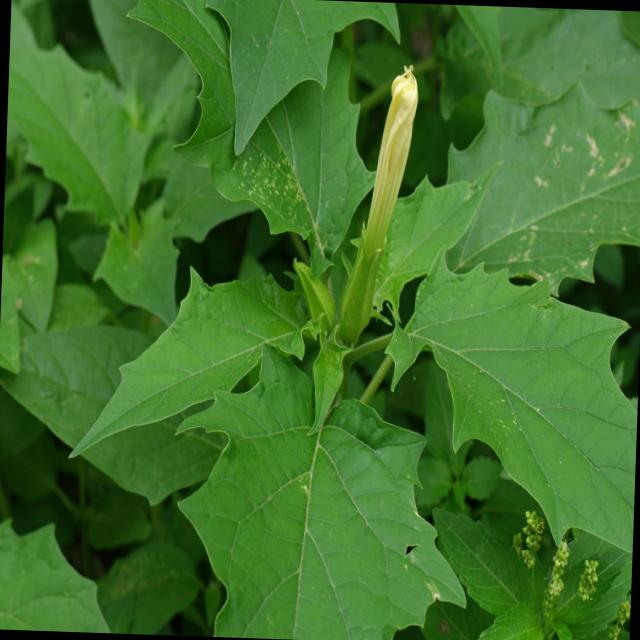Poisonous-Datura_Stramonium: (85, 323, 639, 640), (1, 0, 325, 337), (447, 12, 640, 341), (314, 56, 442, 484)
